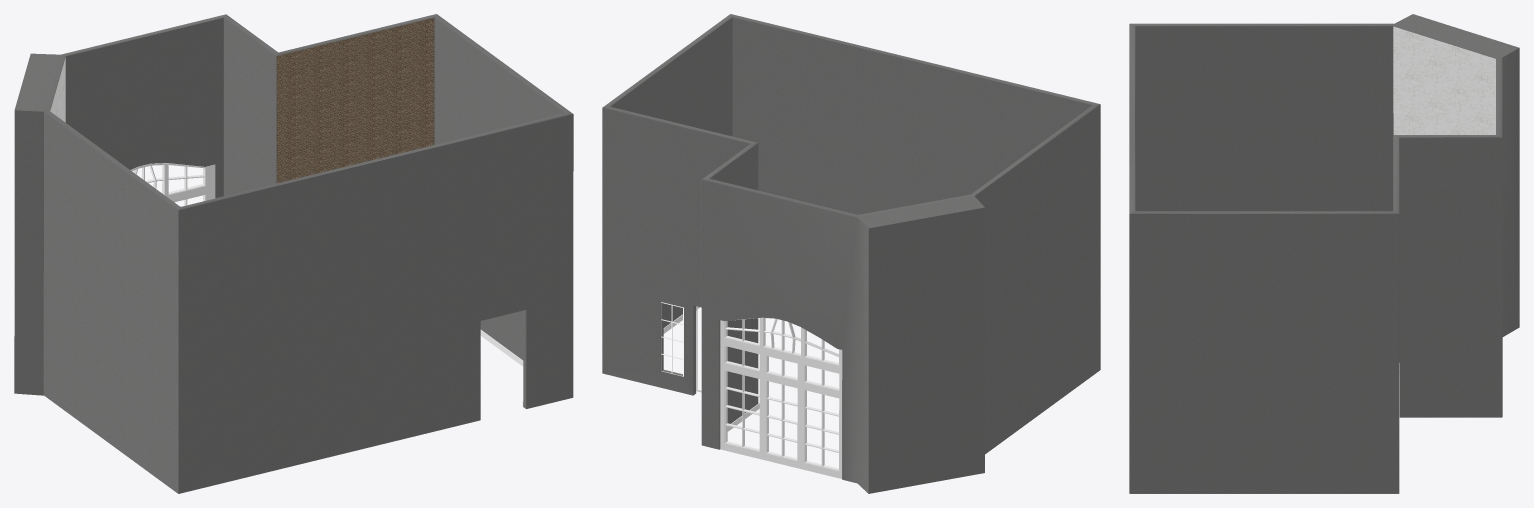
Rendered from Walls_3e8fe6e6.obj.
The picture shows the model from 3 angles, left to right: view 1: azimuth 30°, elevation 25°; view 2: azimuth 150°, elevation 25°; view 3: azimuth 270°, elevation 25°; orthographic projection. The views are drawn at different scales.
Parts seen in each view (by area): view 1: Walls_3e8fe6e6; view 2: Walls_3e8fe6e6; view 3: Walls_3e8fe6e6.
Part boxes in pixels (x1=…): Walls_3e8fe6e6: x1=14, y1=14, x2=573, y2=493; Walls_3e8fe6e6: x1=602, y1=14, x2=1100, y2=493; Walls_3e8fe6e6: x1=1129, y1=14, x2=1519, y2=493.
Bounding box in the file's own units: 9.19 × 6 × 7.57.
